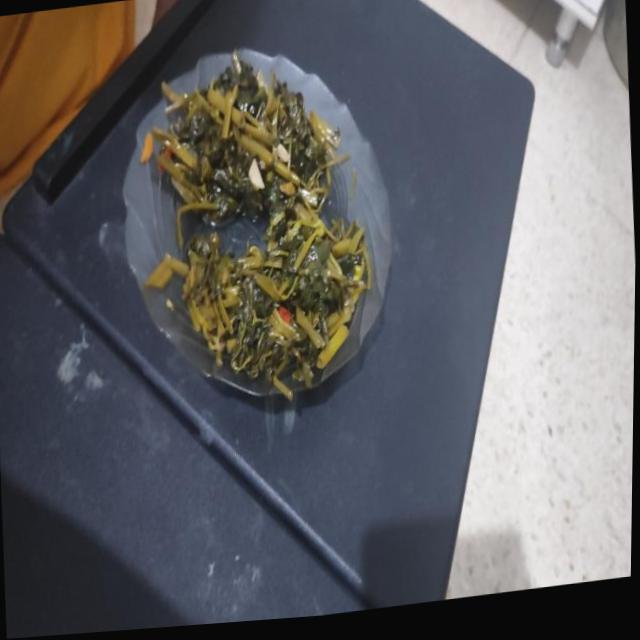tumis_kangkung: (183, 212, 371, 398), (151, 50, 349, 225)
